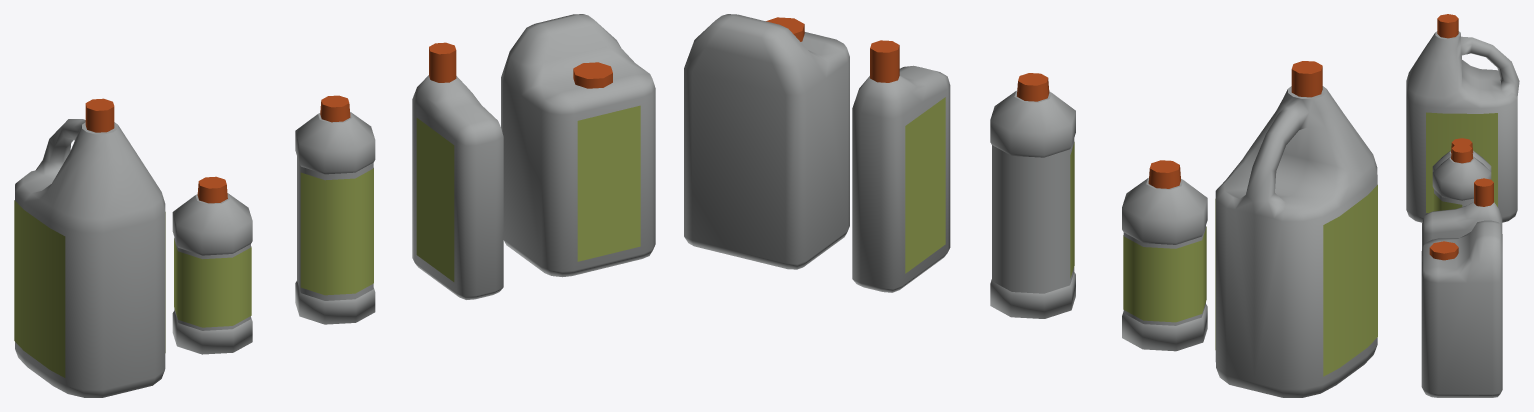
File: Plastic Bottle.fbx
3 views of the same model, side by side, from view 1: azimuth 30°, elevation 25°; view 2: azimuth 150°, elevation 25°; view 3: azimuth 270°, elevation 25° (orthographic). The views are drawn at different scales.
Visible parts, largest first — view 1: BottlePlastic1, BottlePlastic5, BottlePlastic4, BottlePlastic5.002, BottlePlastic3.002, BottlePlastic1.002, BottlePlastic3, BottlePlastic2, BottlePlastic2.002, BottlePlastic4.002, BottlePlastic4.1, BottlePlastic1.1 (+3 smaller); view 2: BottlePlastic5, BottlePlastic1, BottlePlastic3, BottlePlastic4, BottlePlastic1.002, BottlePlastic2, BottlePlastic2.002, BottlePlastic4.002, BottlePlastic4.1, BottlePlastic1.1, BottlePlastic2.1, BottlePlastic3.1 (+1 smaller); view 3: BottlePlastic5, BottlePlastic1, BottlePlastic1.002, BottlePlastic4, BottlePlastic3, BottlePlastic4.1, BottlePlastic1.1, BottlePlastic5.1, BottlePlastic3.1, BottlePlastic3.002, BottlePlastic2, BottlePlastic2.1.
Boxes of the visible parts, x1,y1,x2,y2 form: BottlePlastic1: (15, 119, 165, 397); BottlePlastic5: (501, 14, 655, 277); BottlePlastic4: (412, 75, 503, 299); BottlePlastic5.002: (577, 105, 640, 261); BottlePlastic3.002: (300, 168, 373, 295); BottlePlastic1.002: (14, 200, 165, 377); BottlePlastic3: (295, 112, 375, 324); BottlePlastic2: (172, 193, 252, 354); BottlePlastic2.002: (174, 238, 251, 327); BottlePlastic4.002: (416, 118, 454, 281); BottlePlastic4.1: (429, 42, 456, 82); BottlePlastic1.1: (85, 98, 114, 132); BottlePlastic5: (684, 14, 849, 269); BottlePlastic1: (1215, 86, 1377, 397); BottlePlastic3: (990, 90, 1075, 318); BottlePlastic4: (852, 65, 950, 292); BottlePlastic1.002: (1215, 185, 1377, 376); BottlePlastic2: (1122, 178, 1207, 351); BottlePlastic2.002: (1123, 226, 1206, 322); BottlePlastic4.002: (905, 97, 945, 273); BottlePlastic4.1: (870, 40, 899, 82); BottlePlastic1.1: (1291, 61, 1322, 97); BottlePlastic2.1: (1148, 160, 1180, 188); BottlePlastic3.1: (1017, 73, 1049, 101); BottlePlastic5: (1421, 220, 1502, 397); BottlePlastic1: (1406, 31, 1519, 222); BottlePlastic1.002: (1426, 112, 1497, 213); BottlePlastic4: (1422, 202, 1502, 249); BottlePlastic3: (1432, 156, 1491, 206); BottlePlastic4.1: (1474, 178, 1493, 206); BottlePlastic1.1: (1437, 14, 1458, 38); BottlePlastic5.1: (1429, 241, 1458, 260); BottlePlastic3.1: (1451, 144, 1473, 163); BottlePlastic3.002: (1433, 193, 1462, 211); BottlePlastic2: (1432, 150, 1491, 171); BottlePlastic2.1: (1451, 138, 1473, 152).
Bounding box in the file's own units: 489 × 210 × 113.
